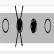correct: (29, 14, 38, 38)
not correct: (14, 5, 24, 46)
